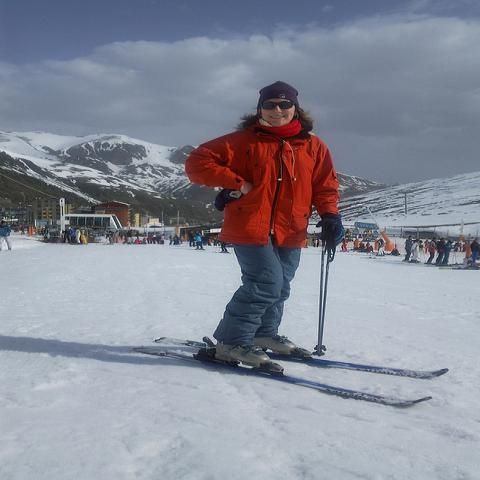bus: (63, 214, 122, 229)
